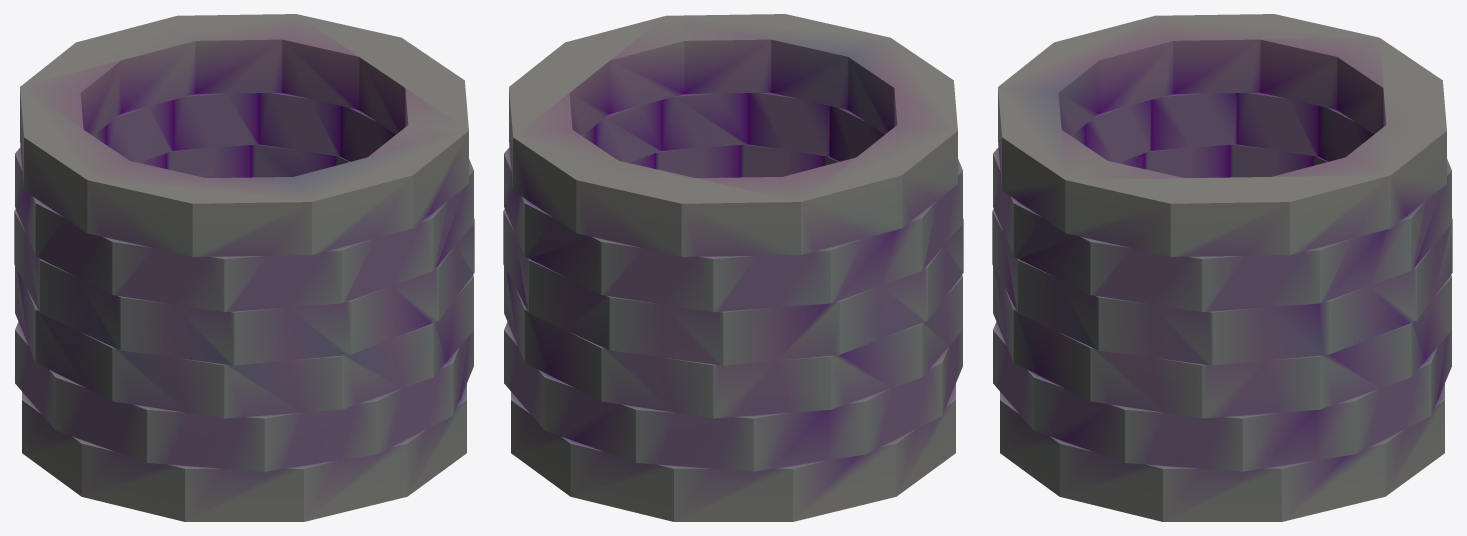
3 views of the same model, side by side, from view 1: azimuth 30°, elevation 25°; view 2: azimuth 150°, elevation 25°; view 3: azimuth 270°, elevation 25° (orthographic).
Visible parts, largest first — view 1: course; view 2: course; view 3: course.
Part boxes in pixels (bbox=[...]): course: bbox=[14, 14, 474, 521]; course: bbox=[503, 14, 963, 521]; course: bbox=[992, 14, 1452, 521].
Bounding box in the file's own units: 0.9991 × 0.7638 × 0.9991.
